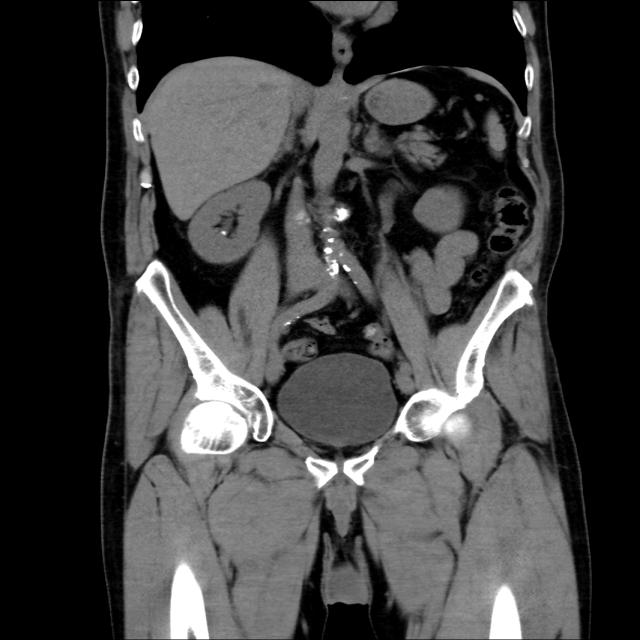kidneystone: (214, 222, 233, 238)
